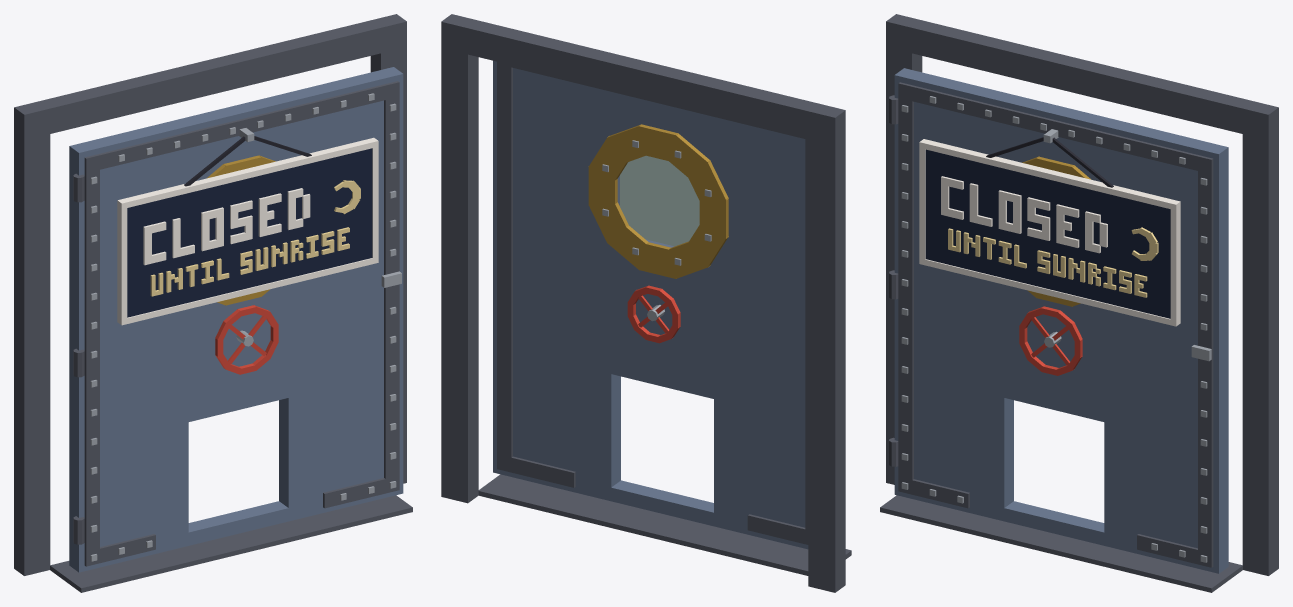
The model's file is CatCafe_Door_PortholeHatch_Back.glb.
The picture shows the model from 3 angles, left to right: view 1: azimuth 30°, elevation 25°; view 2: azimuth 150°, elevation 25°; view 3: azimuth 330°, elevation 25°; orthographic projection. The views are drawn at different scales.
Parts seen in each view (by area): view 1: CatCafe_Door_PortholeHatch_Back_Leaf, CatCafe_Door_PortholeHatch_Back, CatCafe_Door_PortholeHatch_Back_Sign, CatCafe_Door_PortholeHatch_Back_Sign_Bulb; view 2: CatCafe_Door_PortholeHatch_Back_Leaf, CatCafe_Door_PortholeHatch_Back, CatCafe_Door_PortholeHatch_Back_Leaf_Glass; view 3: CatCafe_Door_PortholeHatch_Back_Leaf, CatCafe_Door_PortholeHatch_Back, CatCafe_Door_PortholeHatch_Back_Sign, CatCafe_Door_PortholeHatch_Back_Sign_Bulb.
Part boxes in pixels (box(x1,y1,x2,y2)): CatCafe_Door_PortholeHatch_Back_Leaf: box(69, 67, 403, 572); CatCafe_Door_PortholeHatch_Back: box(14, 14, 412, 592); CatCafe_Door_PortholeHatch_Back_Sign: box(117, 128, 378, 325); CatCafe_Door_PortholeHatch_Back_Sign_Bulb: box(143, 180, 360, 296); CatCafe_Door_PortholeHatch_Back_Leaf: box(493, 60, 808, 549); CatCafe_Door_PortholeHatch_Back: box(441, 14, 851, 592); CatCafe_Door_PortholeHatch_Back_Leaf_Glass: box(620, 155, 699, 246); CatCafe_Door_PortholeHatch_Back_Leaf: box(889, 68, 1228, 573); CatCafe_Door_PortholeHatch_Back: box(880, 14, 1278, 592); CatCafe_Door_PortholeHatch_Back_Sign: box(919, 129, 1180, 326); CatCafe_Door_PortholeHatch_Back_Sign_Bulb: box(941, 176, 1158, 297).
Bounding box in the file's own units: 6.9 × 7.95 × 1.34.
Materials: 1 (1 with a texture image).
